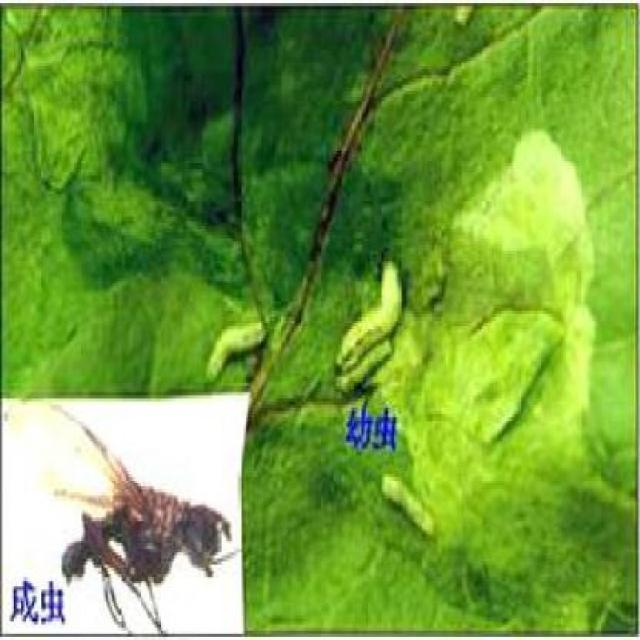whorl-maggot: (329, 248, 414, 402), (382, 463, 442, 545), (200, 317, 274, 380)
